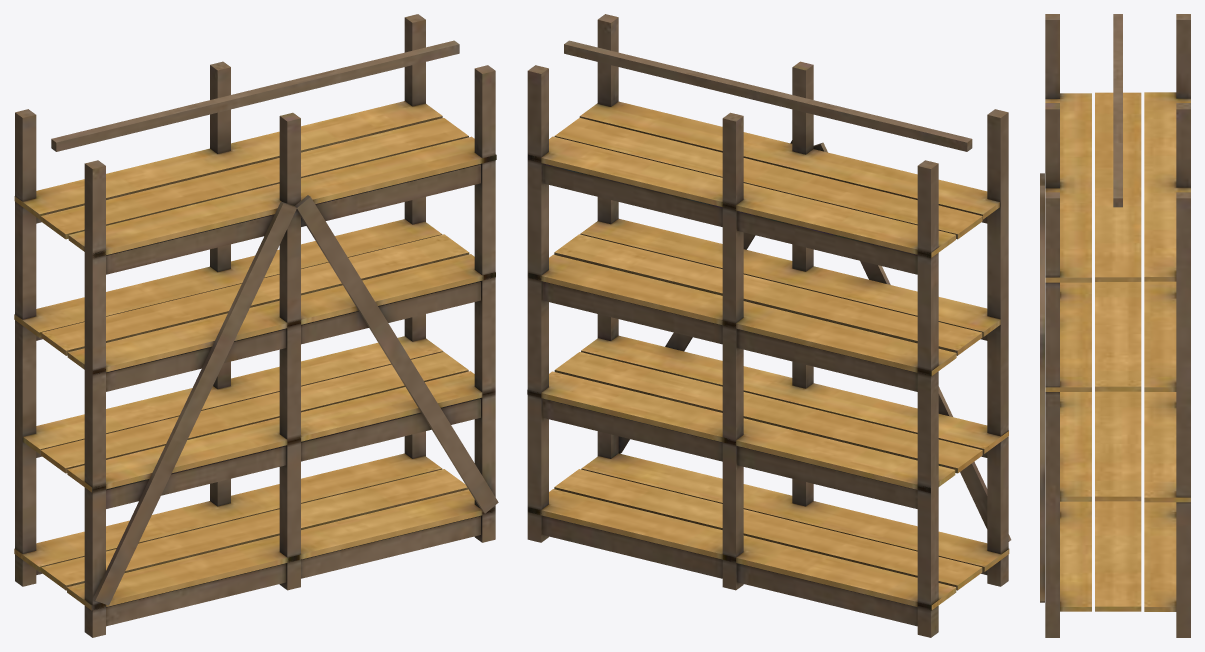
The model's file is rack_wood_lod1_web.glb.
The picture shows the model from 3 angles, left to right: view 1: azimuth 30°, elevation 25°; view 2: azimuth 150°, elevation 25°; view 3: azimuth 270°, elevation 25°; orthographic projection. The views are drawn at different scales.
Visible parts, largest first — view 1: RackWood_Body; view 2: RackWood_Body; view 3: RackWood_Body.
Part boxes in pixels (x1,y1,x2,y2): RackWood_Body: (14,14,498,637); RackWood_Body: (527,14,1011,637); RackWood_Body: (1040,14,1190,637).
Size of the model in its own units: 1.81 by 2 by 0.622.
Materials: 1 (1 with a texture image).
